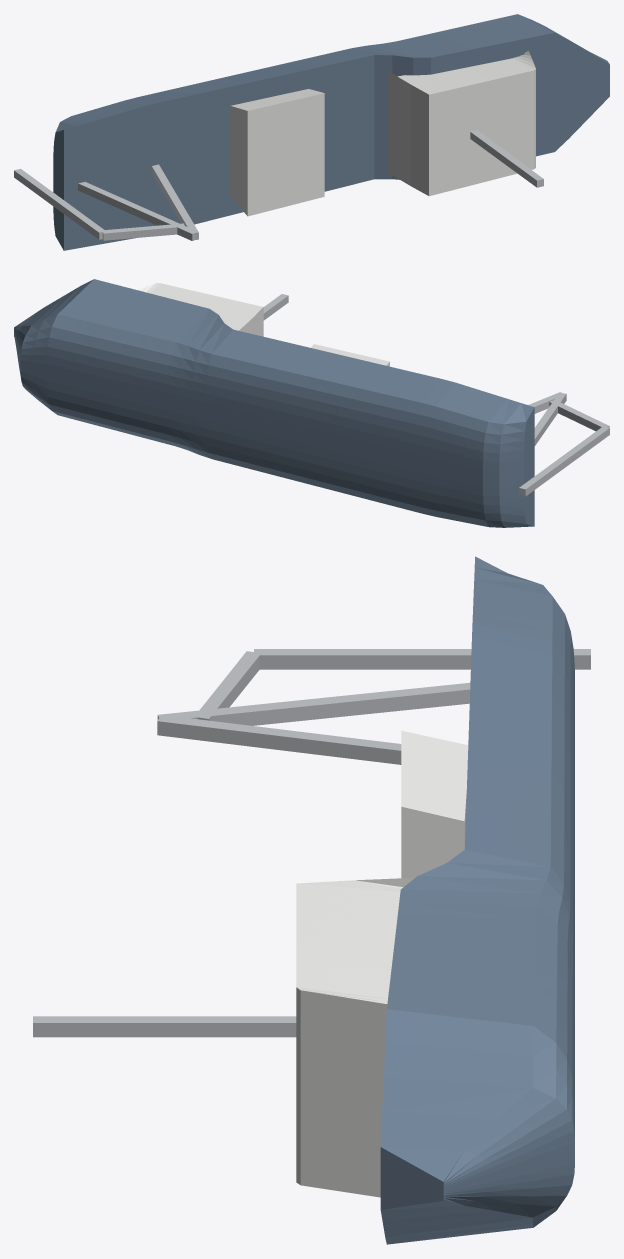
The model's file is dive-support-loft.glb.
The picture shows the model from 3 angles, top to bottom: view 1: azimuth 30°, elevation 25°; view 2: azimuth 150°, elevation 25°; view 3: azimuth 270°, elevation 25°; orthographic projection. The views are drawn at different scales.
Visible parts, largest first — view 1: dive-support; view 2: dive-support; view 3: dive-support.
Part boxes in pixels (bbox=[...]): dive-support: bbox=[14, 14, 609, 250]; dive-support: bbox=[14, 279, 609, 527]; dive-support: bbox=[33, 556, 590, 1244].
Bounding box in the file's own units: 1.95 × 0.4391 × 0.8595.
